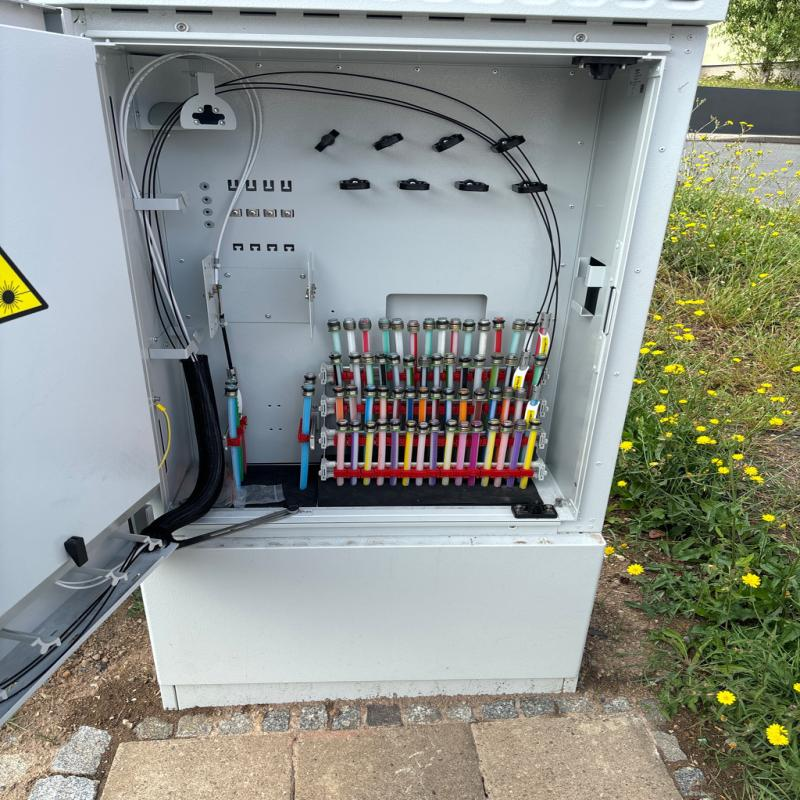NT-Gehause: (2, 0, 712, 726)
